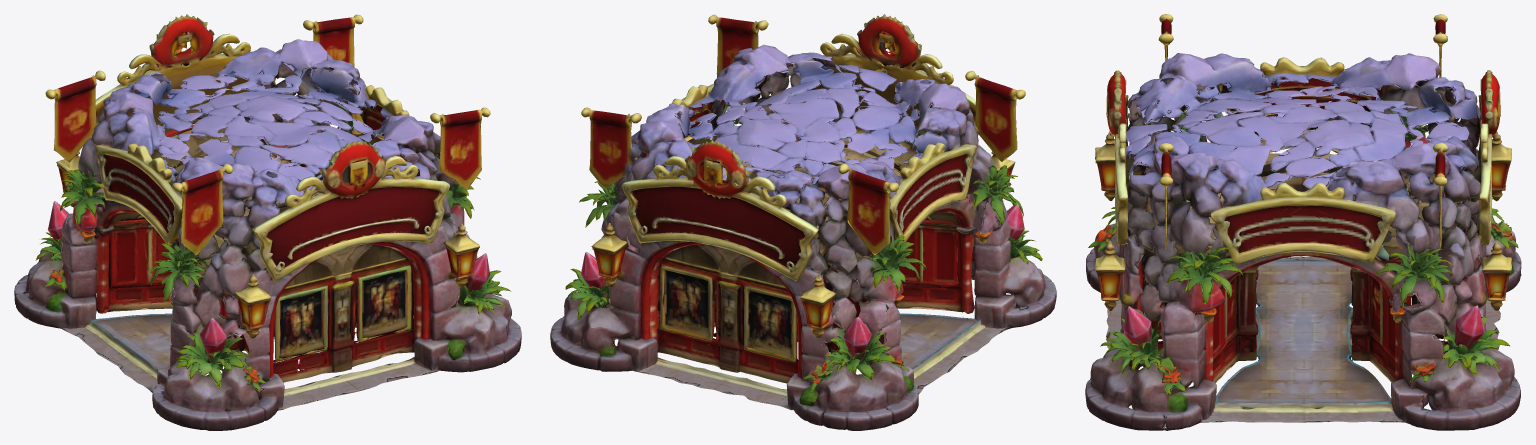
Rendered from mu-heritage-portal-trellis2.glb.
3 views of the same model, side by side, from view 1: azimuth 30°, elevation 25°; view 2: azimuth 150°, elevation 25°; view 3: azimuth 270°, elevation 25° (orthographic). The views are drawn at different scales.
Parts seen in each view (by area): view 1: world; view 2: world; view 3: world.
Boxes of the visible parts, box(x1,y1,x2,y2) form: world: box(14, 14, 521, 430); world: box(550, 14, 1056, 430); world: box(1085, 14, 1521, 430).
Bounding box in the file's own units: 1 × 0.6703 × 0.9932.
1 material, 1 textured.
